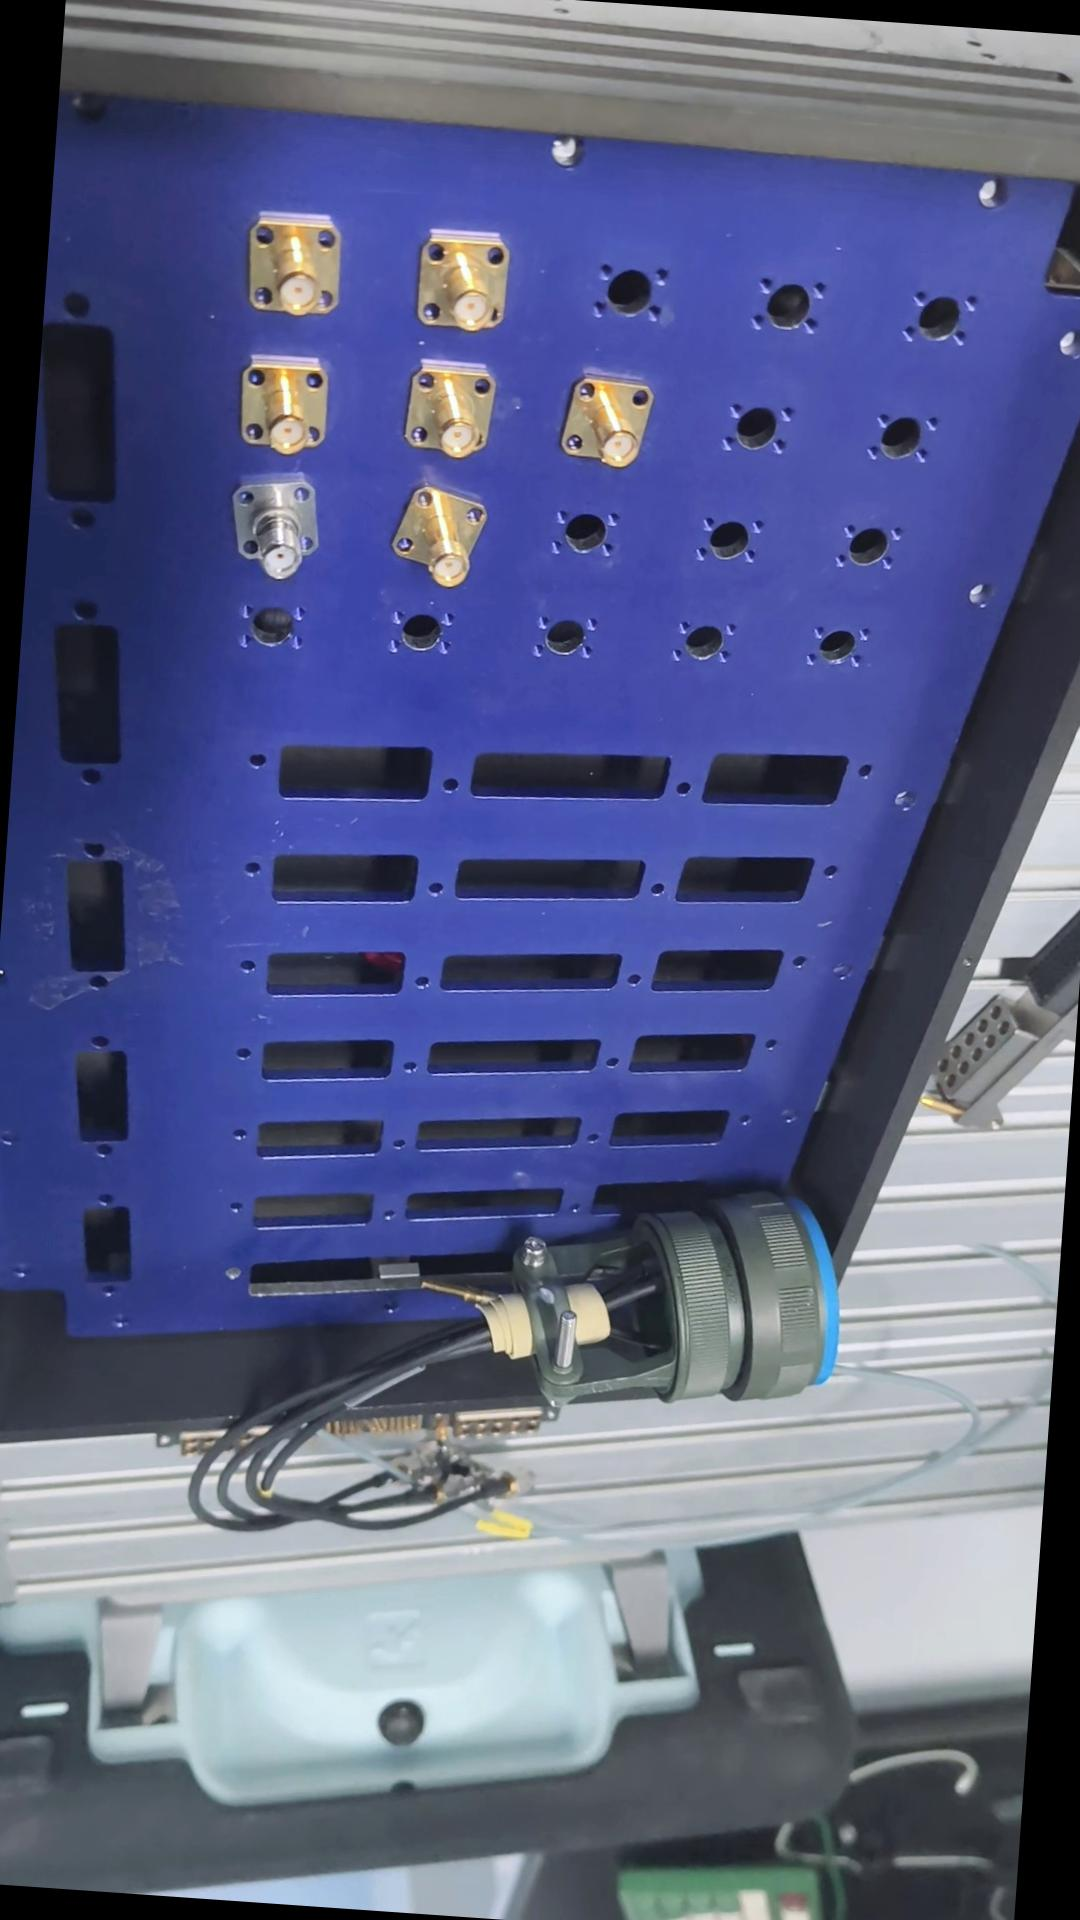SMA: (247, 206, 353, 326), (223, 471, 328, 579), (414, 225, 517, 336), (398, 479, 495, 589), (240, 353, 334, 451), (564, 368, 654, 469), (413, 363, 498, 462)
